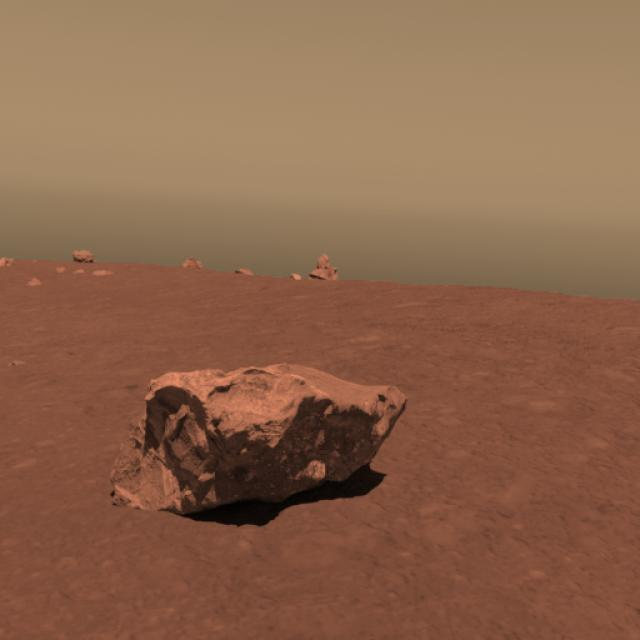rock: (112, 363, 412, 528)
